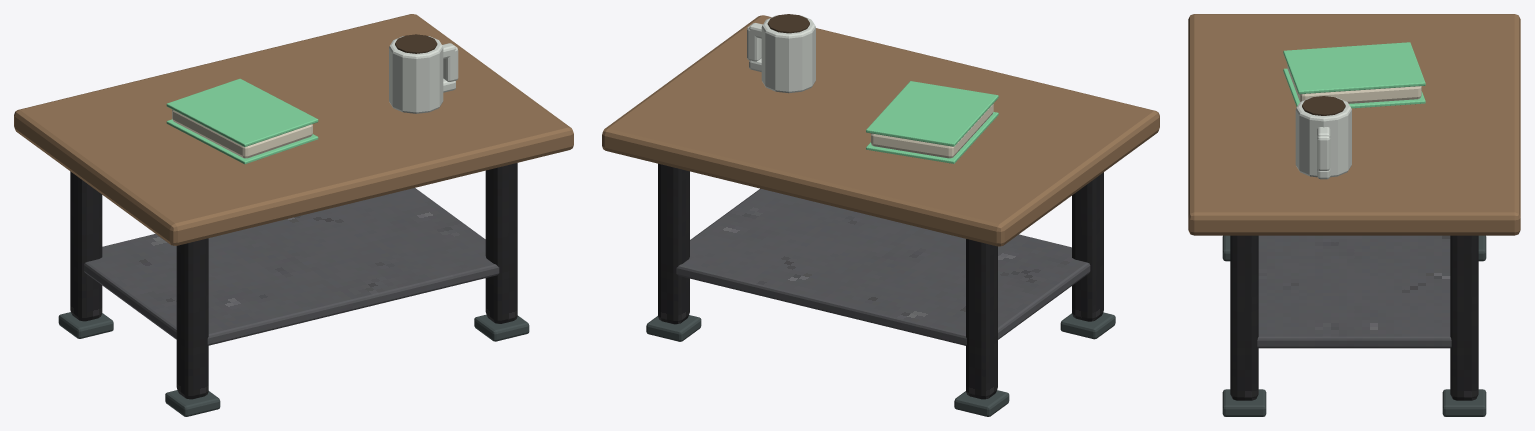
Rendered from lbd_coffee_table.glb.
3 views of the same model, side by side, from view 1: azimuth 30°, elevation 25°; view 2: azimuth 150°, elevation 25°; view 3: azimuth 270°, elevation 25° (orthographic). The views are drawn at different scales.
Parts seen in each view (by area): view 1: coffee_table__top_027, coffee_table__lower shelf_030, coffee_table__book cover_039, coffee_table__leg_003, coffee_table__leg_015, coffee_table__leg_009, coffee_table__mug body_040, coffee_table__book pages_033, coffee_table__rubber foot_018, coffee_table__rubber foot_006, coffee_table__rubber foot_012, coffee_table__book cover_036 (+1 smaller); view 2: coffee_table__top_027, coffee_table__lower shelf_030, coffee_table__book cover_039, coffee_table__leg_009, coffee_table__leg_021, coffee_table__leg_003, coffee_table__mug body_040, coffee_table__book pages_033, coffee_table__rubber foot_006, coffee_table__rubber foot_012, coffee_table__rubber foot_024, coffee_table__book cover_036 (+1 smaller); view 3: coffee_table__top_027, coffee_table__lower shelf_030, coffee_table__book cover_039, coffee_table__leg_015, coffee_table__leg_021, coffee_table__mug body_040, coffee_table__book pages_033, coffee_table__rubber foot_018, coffee_table__rubber foot_024, coffee_table__coffee_041, coffee_table__book cover_036, coffee_table__handle side_044.
Part boxes in pixels (<box>): coffee_table__top_027: <box>14,14,573,245</box>; coffee_table__lower shelf_030: <box>84,188,499,345</box>; coffee_table__book cover_039: <box>166,78,318,146</box>; coffee_table__leg_003: <box>176,238,208,399</box>; coffee_table__leg_015: <box>485,163,517,323</box>; coffee_table__leg_009: <box>70,171,102,321</box>; coffee_table__mug body_040: <box>389,36,443,113</box>; coffee_table__book pages_033: <box>172,109,312,158</box>; coffee_table__rubber foot_018: <box>474,314,529,341</box>; coffee_table__rubber foot_006: <box>165,390,220,416</box>; coffee_table__rubber foot_012: <box>58,312,113,338</box>; coffee_table__book cover_036: <box>166,119,318,164</box>; coffee_table__top_027: <box>602,15,1159,246</box>; coffee_table__lower shelf_030: <box>676,188,1090,345</box>; coffee_table__book cover_039: <box>866,81,998,146</box>; coffee_table__leg_009: <box>966,239,997,399</box>; coffee_table__leg_021: <box>658,163,689,324</box>; coffee_table__leg_003: <box>1072,172,1103,321</box>; coffee_table__mug body_040: <box>761,15,815,93</box>; coffee_table__book pages_033: <box>871,104,993,158</box>; coffee_table__rubber foot_006: <box>1060,312,1115,339</box>; coffee_table__rubber foot_012: <box>954,390,1009,416</box>; coffee_table__rubber foot_024: <box>646,315,701,341</box>; coffee_table__book cover_036: <box>866,112,998,163</box>; coffee_table__top_027: <box>1188,14,1520,235</box>; coffee_table__lower shelf_030: <box>1257,235,1451,348</box>; coffee_table__book cover_039: <box>1283,42,1425,94</box>; coffee_table__leg_015: <box>1230,235,1258,400</box>; coffee_table__leg_021: <box>1450,235,1478,400</box>; coffee_table__mug body_040: <box>1295,97,1351,177</box>; coffee_table__book pages_033: <box>1287,64,1421,103</box>; coffee_table__rubber foot_018: <box>1222,389,1266,416</box>; coffee_table__rubber foot_024: <box>1442,389,1486,416</box>; coffee_table__coffee_041: <box>1302,96,1345,115</box>; coffee_table__book cover_036: <box>1283,68,1425,108</box>; coffee_table__handle side_044: <box>1317,136,1330,170</box>.
Size of the model in its own units: 0.94 by 0.604 by 0.65.
8 materials, 2 textured.
